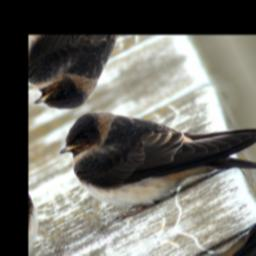Swallow: (47, 44, 256, 250)
